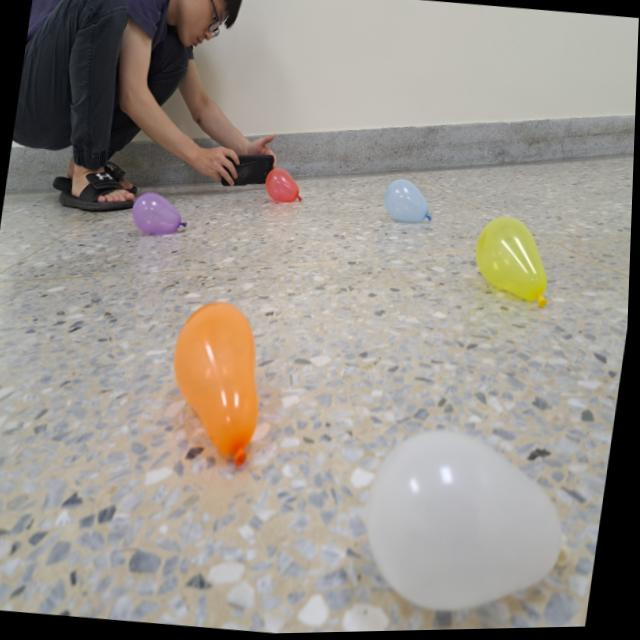other: (356, 421, 590, 625), (163, 297, 276, 471), (469, 213, 560, 313), (381, 176, 440, 229), (132, 191, 191, 238)
red: (262, 167, 309, 207)
